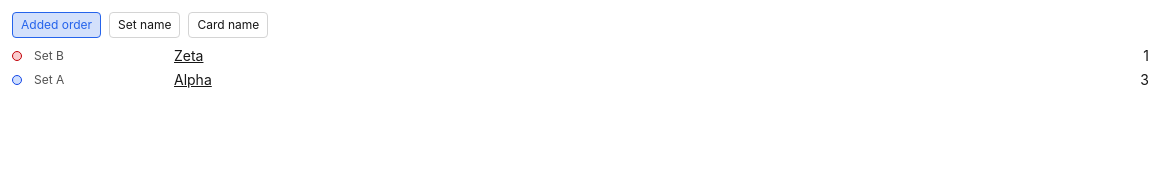
BatchCardList › sorting by set name reorders by packName, not the given order
The width and height of the screenshot is (1164, 172).
Click the button "Set name": (145, 25) top-left (109, 12), bottom-right (180, 38)
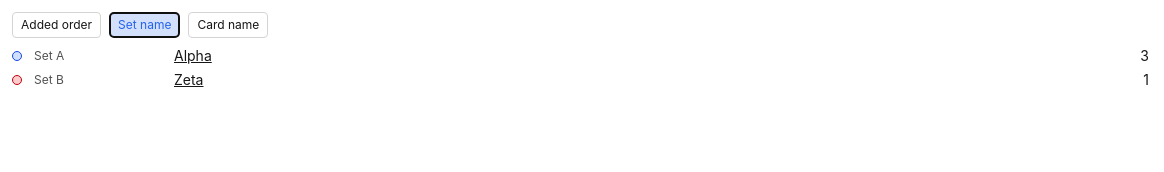
Expected: the buttons "Show details for" read "Alpha", "Zeta", in this order, top-left (174, 46), bottom-right (212, 66); top-left (174, 70), bottom-right (204, 90)
